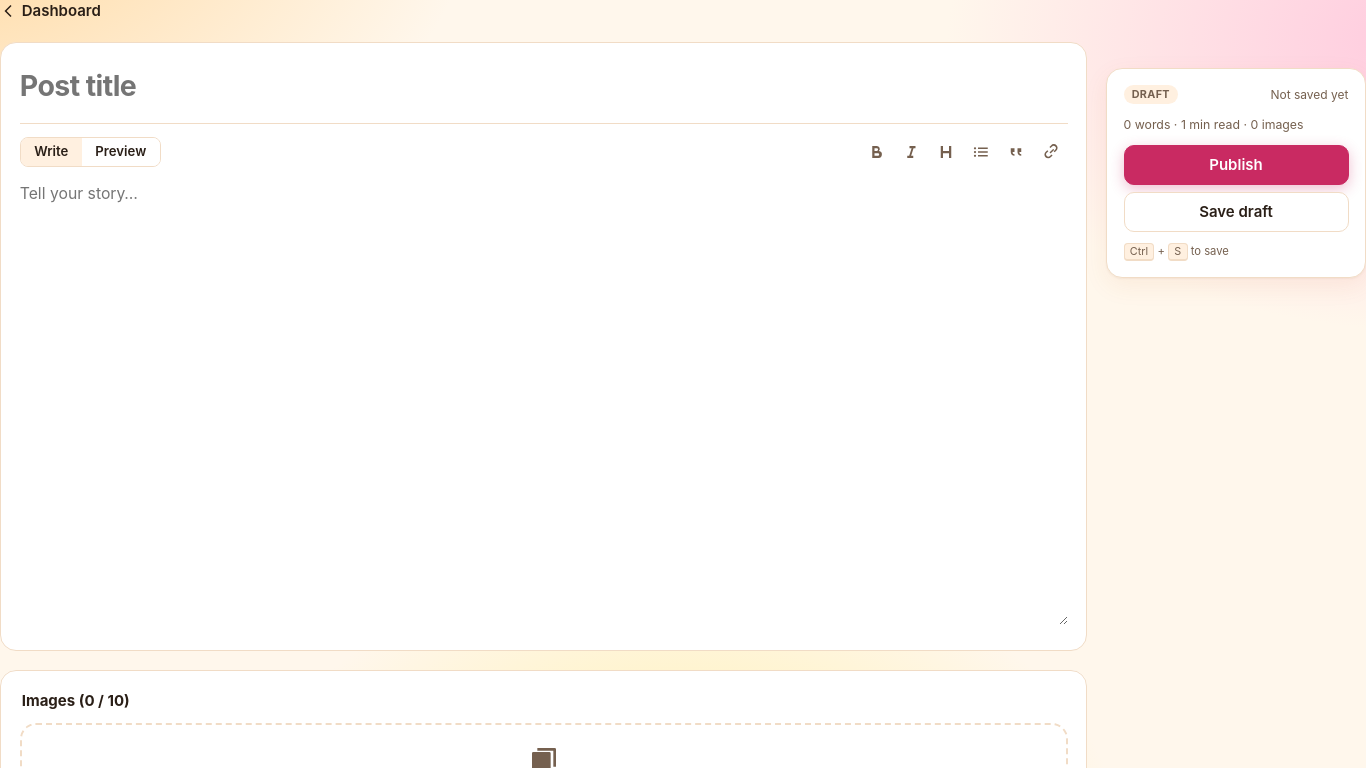
Test: EditorPage unsaved changes › Escape keeps editing
The width and height of the screenshot is (1366, 768).
Type "x" into the field labelled "title". click: (544, 87)
box: top-left (20, 62), bottom-right (1068, 112)
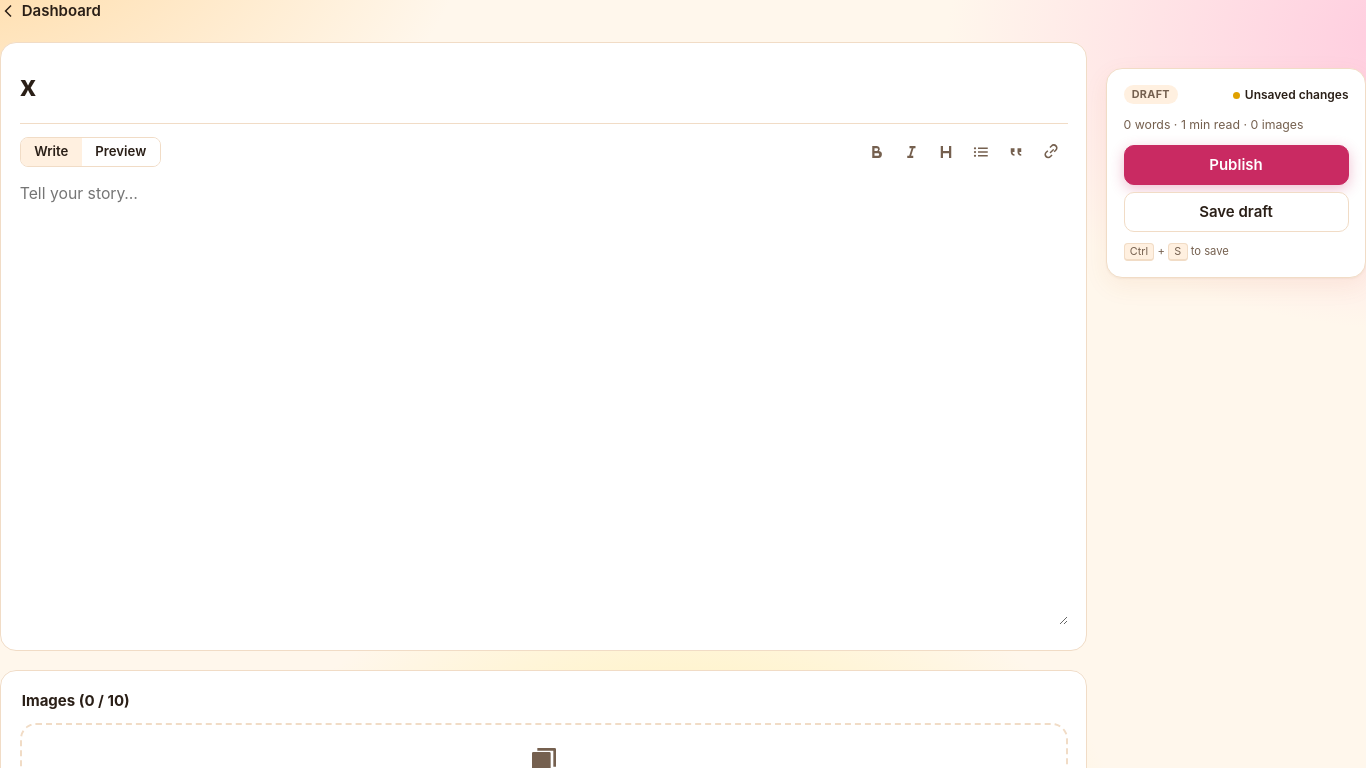
Click the link "Dashboard". click: (50, 11)
box: top-left (0, 0), bottom-right (101, 22)
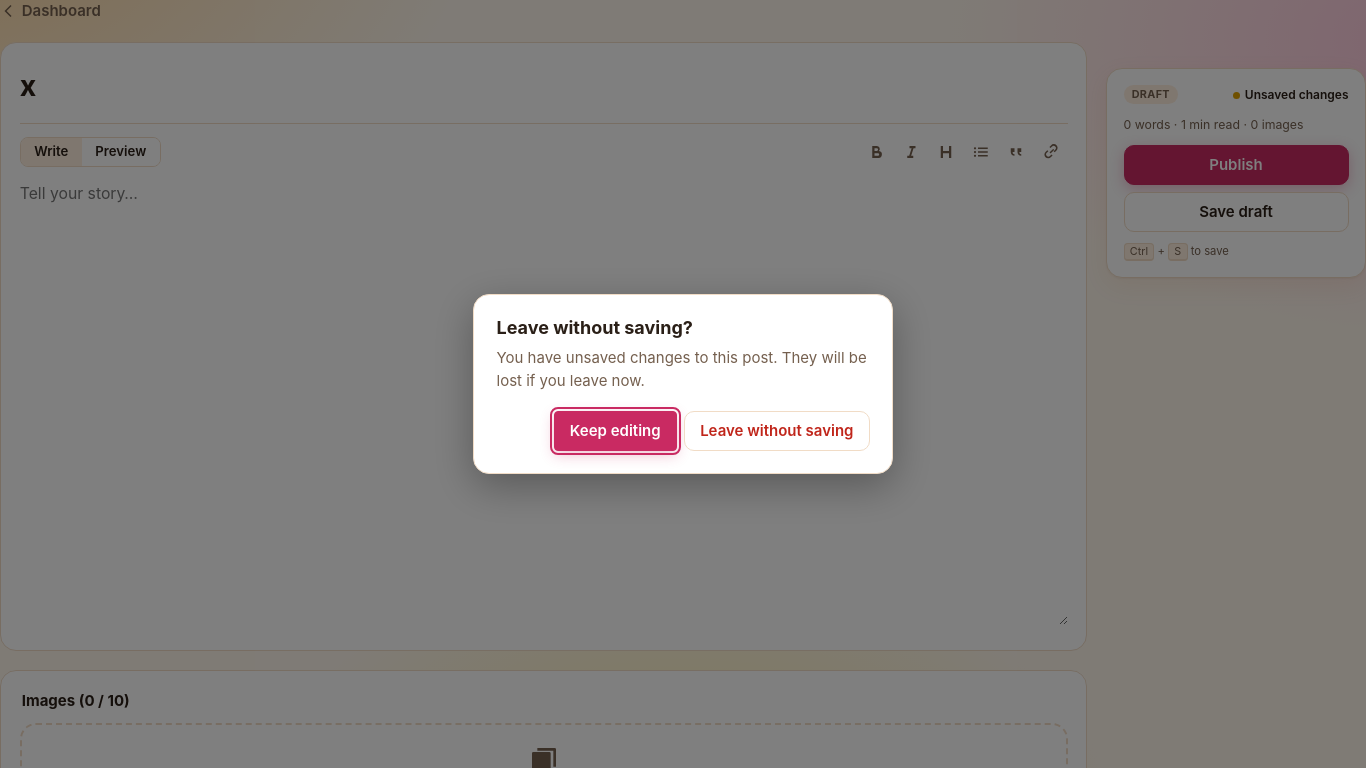
Press Escape
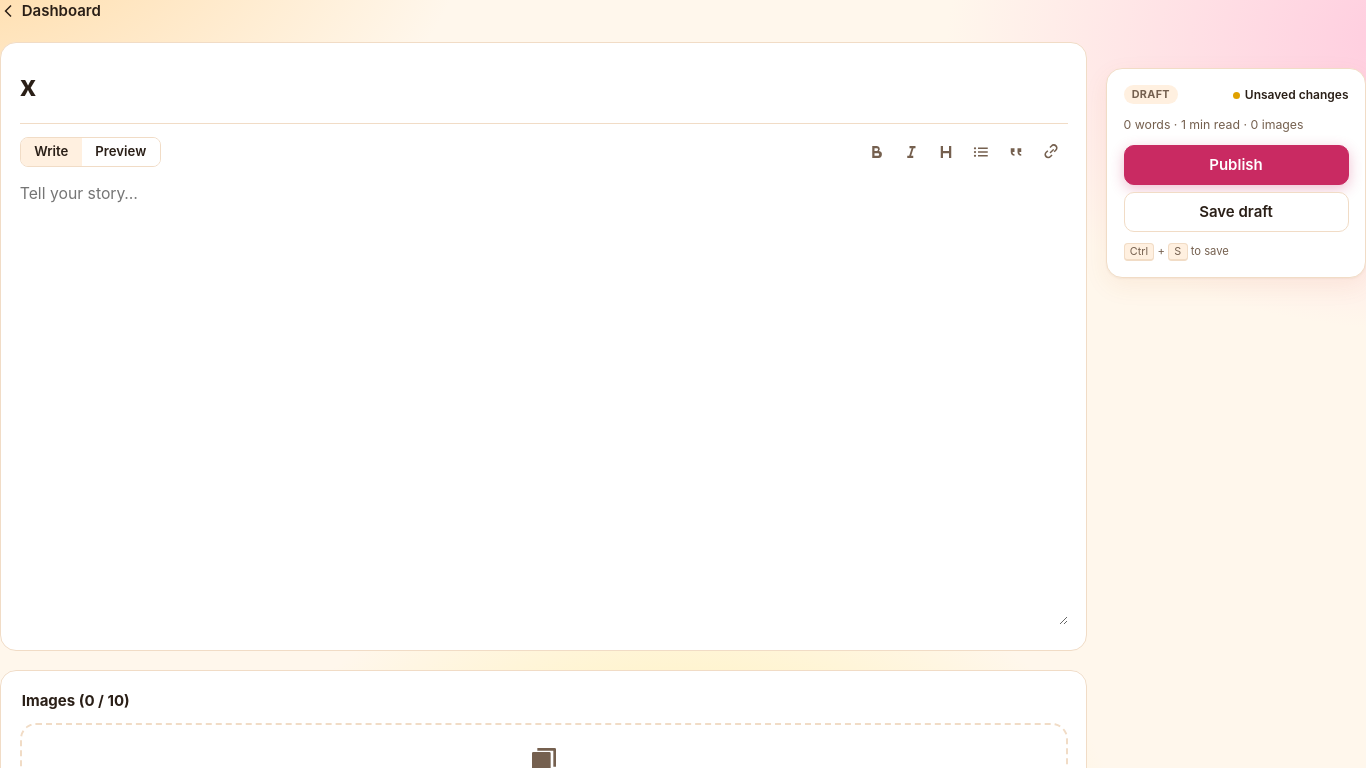
Check: the dialog is gone
